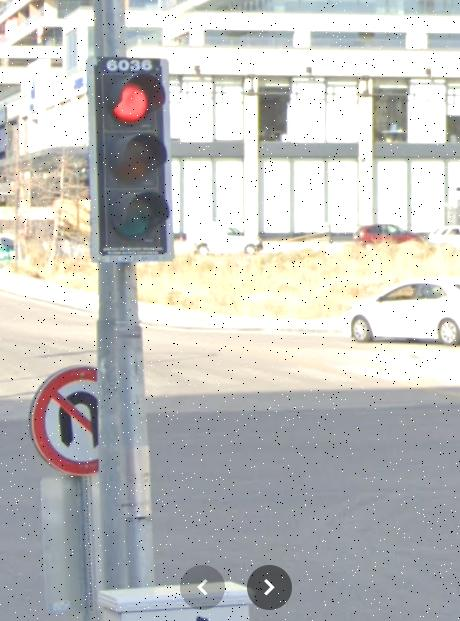redlight: (96, 59, 164, 260)
